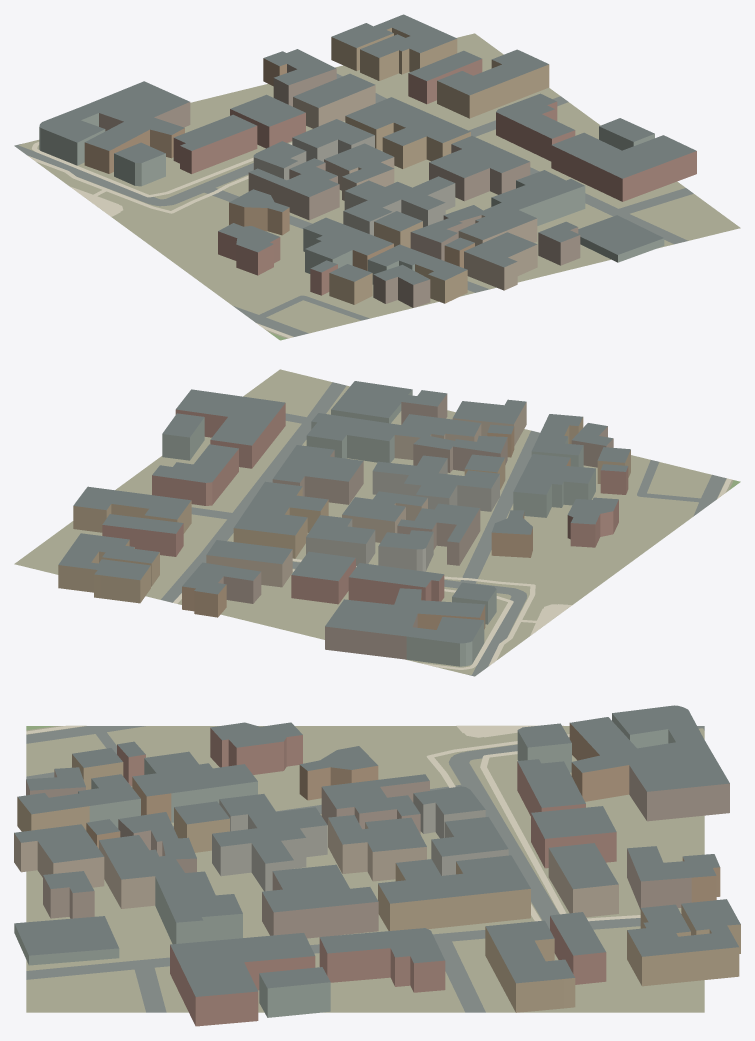
Rendered from sector--2_-4.glb.
The picture shows the model from 3 angles, top to bottom: view 1: azimuth 30°, elevation 25°; view 2: azimuth 150°, elevation 25°; view 3: azimuth 270°, elevation 25°; orthographic projection. The views are drawn at different scales.
Parts seen in each view (by area): view 1: -2:-4-facade, -2:-4-roof, -2:-4-ground, -2:-4-road, -2:-4-paving; view 2: -2:-4-roof, -2:-4-facade, -2:-4-ground, -2:-4-road, -2:-4-paving; view 3: -2:-4-roof, -2:-4-facade, -2:-4-ground, -2:-4-road, -2:-4-paving.
Boxes of the visible parts, x1,y1,x2,y2 form: -2:-4-facade: [39, 28, 696, 307]; -2:-4-roof: [39, 14, 696, 284]; -2:-4-ground: [19, 33, 740, 338]; -2:-4-road: [14, 73, 693, 336]; -2:-4-paving: [28, 121, 345, 338]; -2:-4-roof: [58, 381, 630, 643]; -2:-4-facade: [58, 390, 630, 666]; -2:-4-ground: [14, 369, 733, 674]; -2:-4-road: [161, 382, 726, 676]; -2:-4-paving: [173, 478, 731, 669]; -2:-4-roof: [14, 705, 740, 996]; -2:-4-facade: [14, 713, 740, 1026]; -2:-4-ground: [26, 726, 704, 1012]; -2:-4-road: [26, 726, 704, 1012]; -2:-4-paving: [26, 725, 681, 921].
Bounding box in the file's own units: 210 × 9.6 × 214.
